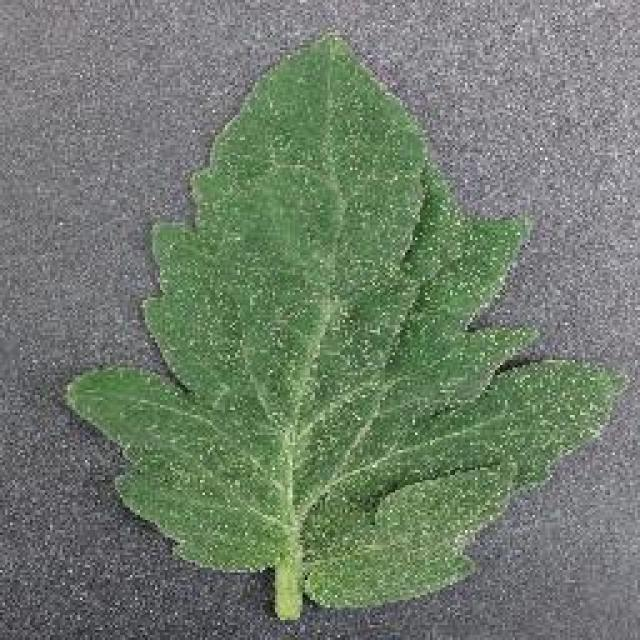Tomato_Healthy: (55, 28, 618, 610)
